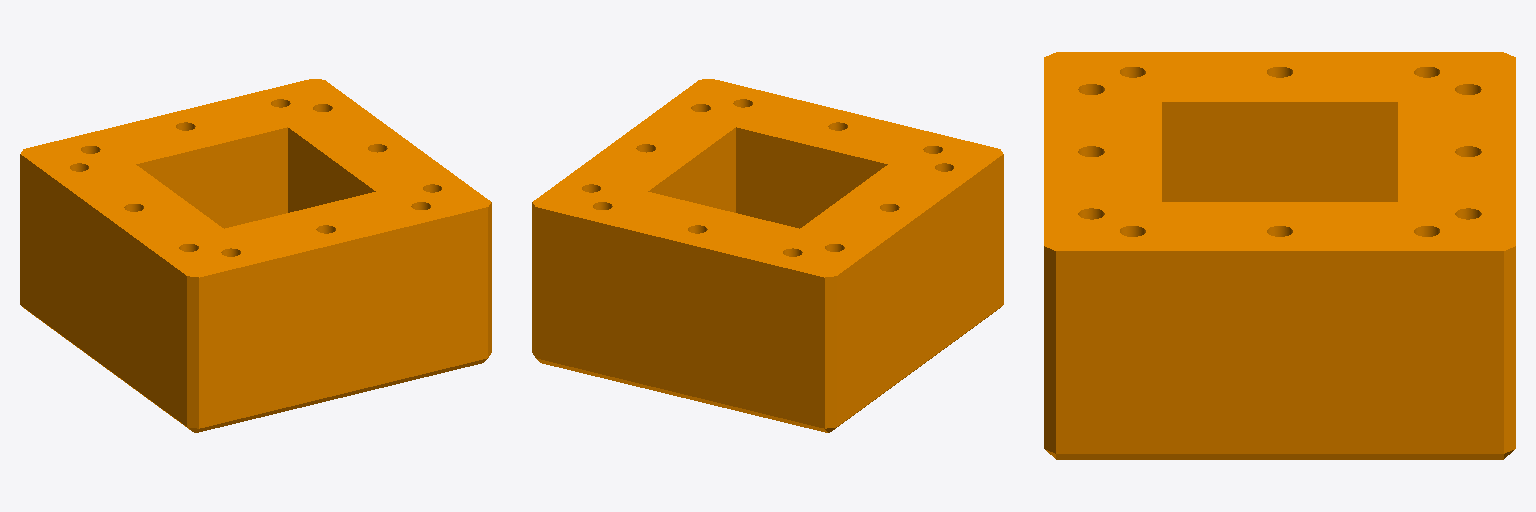
The robot description file, URDF, robot "hole_sqr":
<?xml version="1.0" ?>
<robot name="hole_sqr">
  <link name="hole_link">
    <contact>
      <lateral_friction value="1.0"/>
      <rolling_friction value="0.5"/>
      <contact_cfm value="0.0"/>
      <contact_erp value="1.0"/>
    </contact>
    <inertial>
      <origin rpy="-1.57079632679 0 0" xyz="0 0 0"/>
        <mass value="0.1"/>
        <inertia ixx="0.01" ixy="0" ixz="0" iyy="0.01" iyz="0" izz="0.01"/>
    </inertial>
    <visual>
      <origin rpy="-1.57079632679 0 0" xyz="0 0 0"/>
      <geometry>
			  <mesh filename="meshes/hole/hole_sqr.STL" scale="0.001 0.001 0.001"/>
      </geometry>
      <material name="orange">
        <color rgba="1 0.6 0 1"/>
      </material>
    </visual>
    <collision>
      <origin rpy="-1.57079632679 0 0" xyz="0 0 0"/>
      <geometry>
	 	    <mesh filename="meshes/hole/hole_sqr.STL" scale="0.001 0.001 0.001"/>
      </geometry>
    </collision>
  </link>
</robot>

--- Facts derived from the render (not from the file) ---
The picture shows the robot from 3 angles, left to right: view 1: azimuth 30°, elevation 25°; view 2: azimuth 150°, elevation 25°; view 3: azimuth 270°, elevation 25°; orthographic projection.
Model hole_sqr with 1 links and 0 joints (none), rooted at hole_link, posed every joint at zero.
Visible links, largest first — view 1: hole_link; view 2: hole_link; view 3: hole_link.
Boxes of the visible links, left/top/right/bottom form: hole_link: left=20, top=79, right=491, bottom=432; hole_link: left=532, top=79, right=1003, bottom=432; hole_link: left=1044, top=52, right=1515, bottom=459.
Bounding box of the posed robot: 0.08 × 0.08 × 0.04 m (x, y, z).
1 mesh visuals loaded from 1 distinct referenced files (1 binary STL).